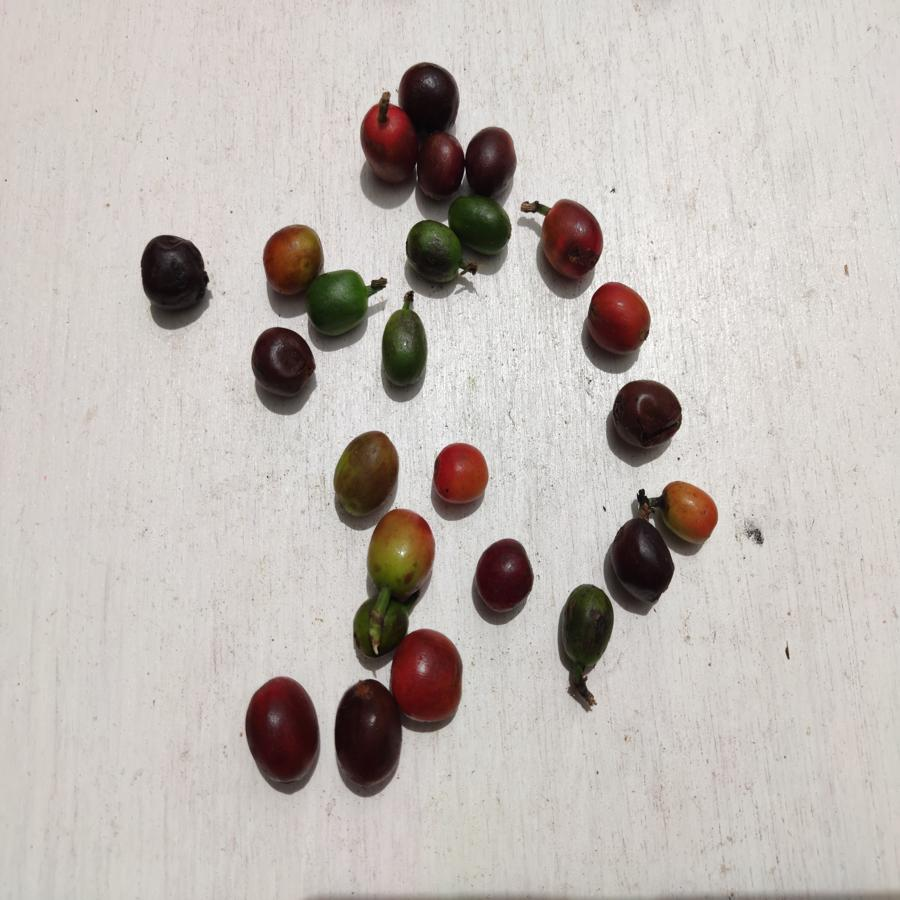Inmaduro: (557, 583, 617, 667), (377, 309, 432, 388), (404, 219, 465, 286), (308, 270, 373, 332), (449, 194, 510, 254), (349, 596, 403, 657)
Maduro: (393, 631, 463, 727), (354, 97, 414, 183), (586, 282, 652, 359)
Pinton: (331, 430, 400, 515), (369, 508, 434, 595), (429, 439, 492, 507), (658, 478, 721, 544), (260, 222, 315, 294)
Sobremaduro: (243, 678, 320, 787), (333, 679, 401, 788), (136, 232, 209, 317), (607, 378, 687, 453), (607, 517, 673, 602), (246, 326, 317, 402), (539, 198, 602, 279), (472, 536, 534, 617), (398, 60, 461, 127), (465, 125, 520, 198), (413, 130, 464, 197)
